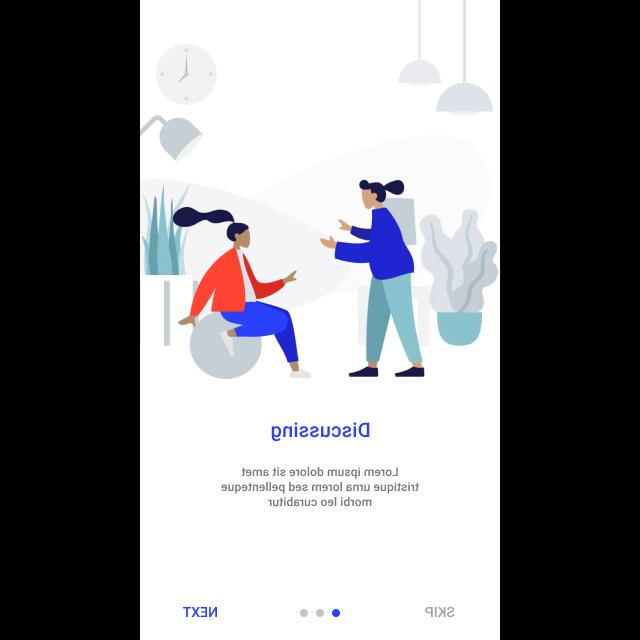image: (140, 1, 500, 381)
pageindicator: (300, 608, 340, 618)
text: (220, 466, 420, 508), (270, 421, 370, 443), (182, 606, 218, 618), (424, 606, 456, 618)
